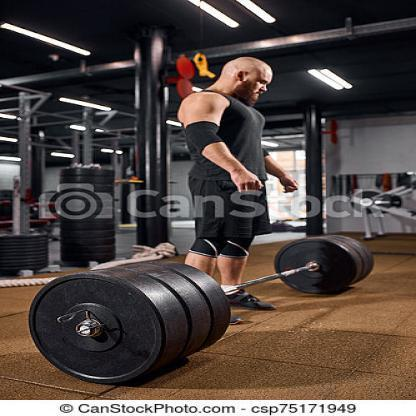barbell: (26, 234, 377, 387)
